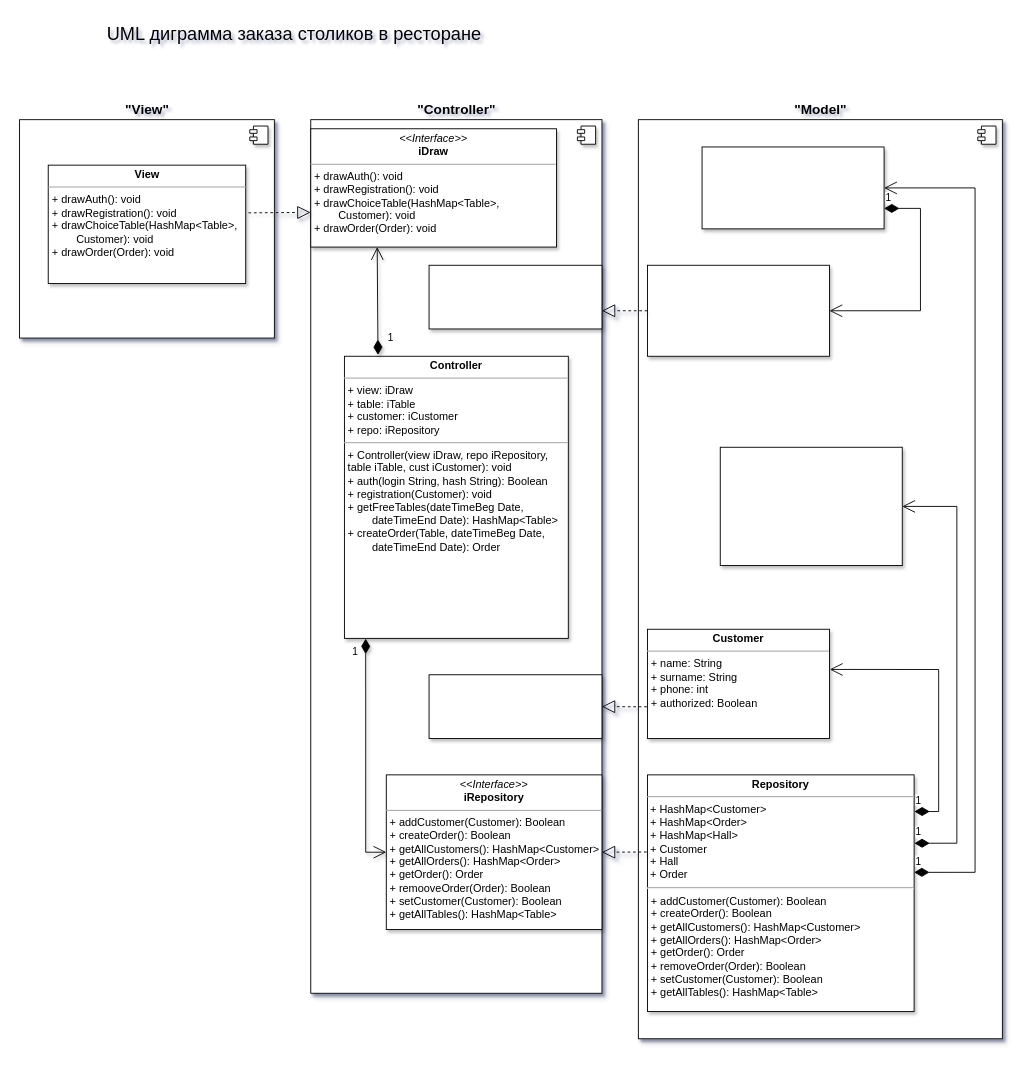
Image size: 1029x1067. Some labels were removed from this diagram. Each missing label, with the centre of its shape:
"<<Interface>> iCustomer + getCustomer(): Customer" belongs at pixel 516 707.
"<<Interface>> iTable + getTable(): Table" belongs at pixel 516 298.
"Hall + name: String + description: Strig + tables: List<Table>" belongs at pixel 794 188.
"Order + dateBeg: Date + dateEnd: Date + customer: Customer + table: Table" belongs at pixel 812 507.
"Table + hall: Hall + places: int + getTable(): Table" belongs at pixel 739 312.
